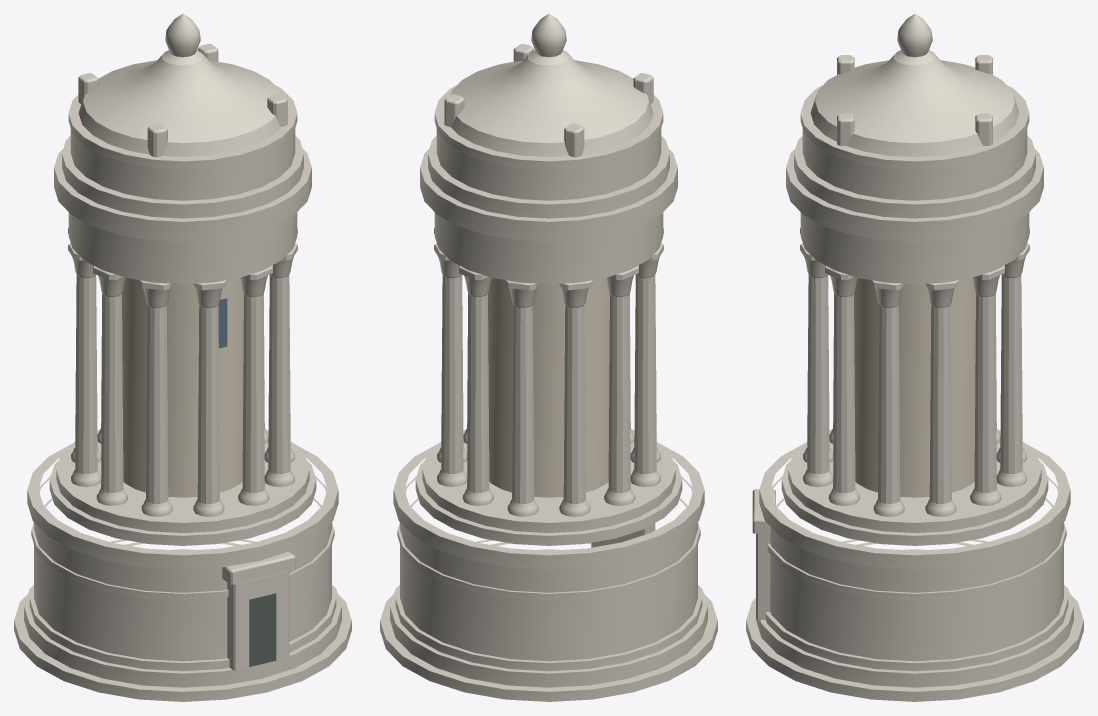
3 renders of one model, left to right at view 1: azimuth 30°, elevation 25°; view 2: azimuth 150°, elevation 25°; view 3: azimuth 270°, elevation 25°, orthographic.
Parts seen in each view (by area): view 1: soldiers-and-sailors-monument; view 2: soldiers-and-sailors-monument; view 3: soldiers-and-sailors-monument.
Part boxes in pixels (x1,y1,x2,y2): soldiers-and-sailors-monument: (14,14,351,701); soldiers-and-sailors-monument: (380,14,717,701); soldiers-and-sailors-monument: (746,14,1083,701).
Size of the model in its own units: 15.2 by 30.6 by 15.2.
